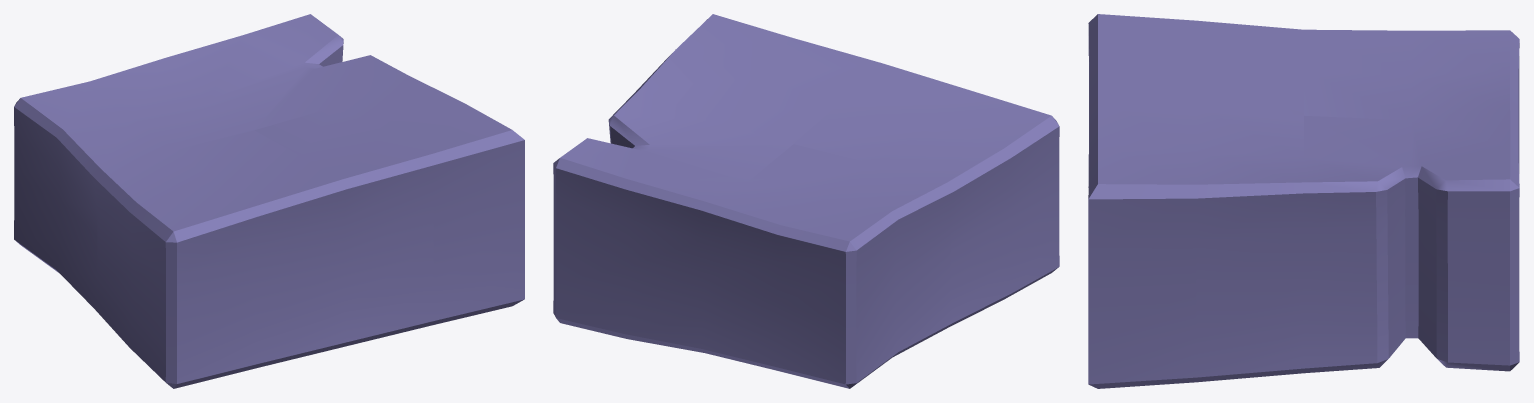
Rendered from Square_2.fbx.
3 views of the same model, side by side, from view 1: azimuth 30°, elevation 25°; view 2: azimuth 150°, elevation 25°; view 3: azimuth 270°, elevation 25° (orthographic). The views are drawn at different scales.
Visible parts, largest first — view 1: square; view 2: square; view 3: square.
Boxes of the visible parts, <box> form: square: <box>14,14,524,388</box>; square: <box>553,14,1059,388</box>; square: <box>1088,14,1519,388</box>.
Size of the model in its own units: 1.96 by 0.9287 by 1.77.
